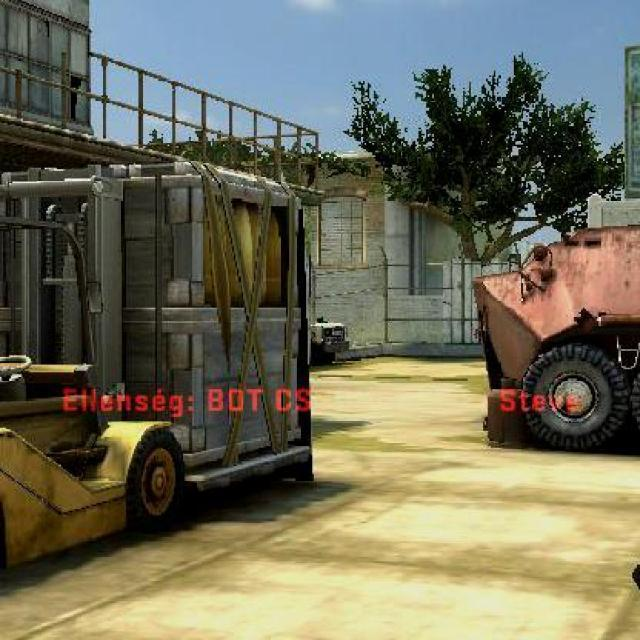CT_HEAD: (316, 314, 326, 326)
